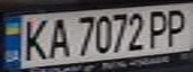0: (93, 11, 115, 55)
2: (127, 9, 148, 52)
7: (72, 12, 96, 56), (109, 10, 130, 53)
A: (42, 15, 72, 61)
K: (18, 16, 51, 62)
P: (160, 6, 193, 47), (145, 7, 175, 50)
